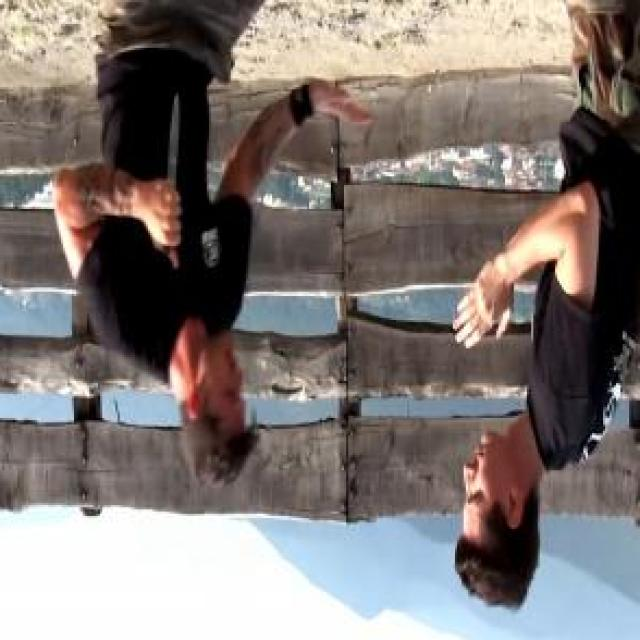knife: (155, 86, 188, 272)
